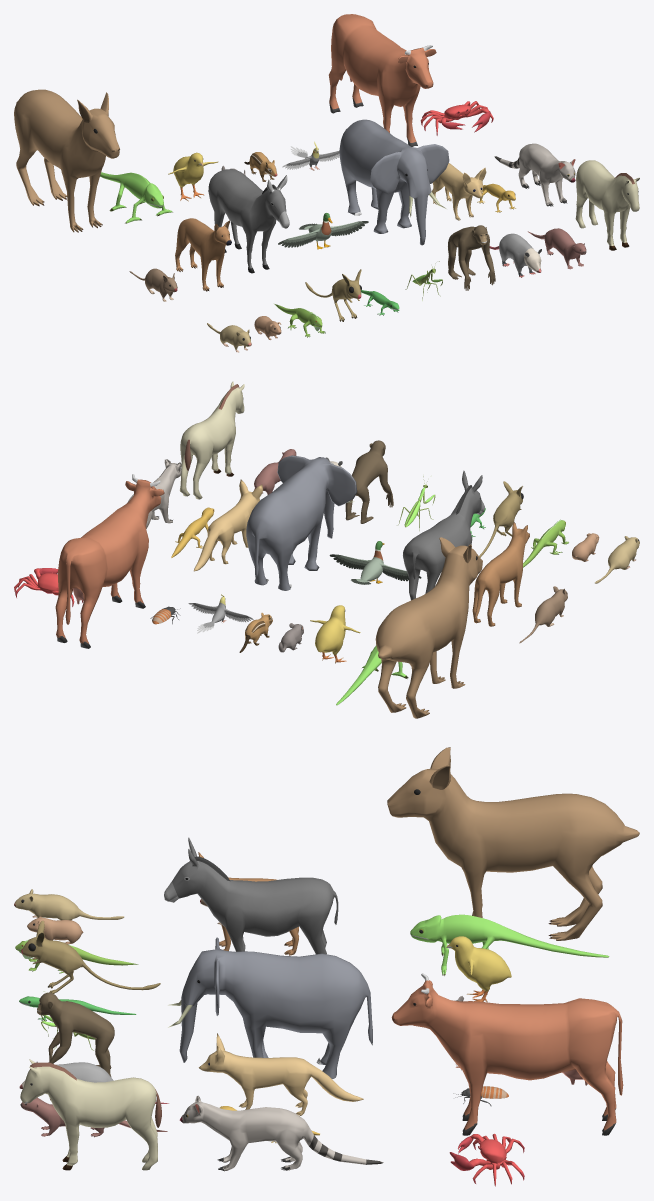
Rendered from animal1.fbx.
The picture shows the model from 3 angles, top to bottom: view 1: azimuth 30°, elevation 25°; view 2: azimuth 150°, elevation 25°; view 3: azimuth 270°, elevation 25°; orthographic projection. The views are drawn at different scales.
Visible parts, largest first — view 1: patagonian_cavy, elephant, cow, donkey, pony, dog, genet, monkey, fennec_fox, chameleon, opossum, duck (+10 smaller); view 2: patagonian_cavy, elephant, cow, donkey, pony, dog, fennec_fox, monkey, duck, chick, jerboa, genet (+10 smaller); view 3: patagonian_cavy, cow, elephant, donkey, pony, genet, fennec_fox, chameleon, monkey, chick, jerboa, crab (+4 smaller).
Part boxes in pixels (bbox=[...]): patagonian_cavy: bbox=[14, 89, 119, 232]; elephant: bbox=[339, 119, 449, 245]; cow: bbox=[328, 14, 436, 146]; donkey: bbox=[208, 169, 289, 273]; pony: bbox=[575, 160, 639, 250]; dog: bbox=[175, 218, 231, 291]; genet: bbox=[494, 143, 575, 206]; monkey: bbox=[448, 225, 495, 290]; fennec_fox: bbox=[432, 163, 486, 220]; chameleon: bbox=[100, 172, 172, 223]; opossum: bbox=[489, 233, 541, 277]; duck: bbox=[278, 213, 368, 249]; patagonian_cavy: bbox=[375, 537, 482, 718]; elephant: bbox=[246, 455, 357, 590]; cow: bbox=[55, 474, 164, 648]; donkey: bbox=[403, 470, 484, 600]; pony: bbox=[179, 381, 244, 499]; dog: bbox=[472, 522, 529, 626]; fennec_fox: bbox=[193, 479, 263, 571]; monkey: bbox=[345, 440, 393, 523]; duck: bbox=[329, 541, 421, 584]; chick: bbox=[310, 605, 360, 663]; jerboa: bbox=[479, 481, 523, 557]; genet: bbox=[127, 459, 181, 528]; patagonian_cavy: bbox=[387, 747, 639, 940]; cow: bbox=[391, 973, 623, 1135]; elephant: bbox=[168, 937, 372, 1078]; donkey: bbox=[164, 837, 338, 954]; pony: bbox=[20, 1059, 161, 1170]; genet: bbox=[179, 1095, 383, 1171]; fennec_fox: bbox=[198, 1033, 363, 1115]; chameleon: bbox=[410, 914, 609, 975]; monkey: bbox=[37, 992, 114, 1076]; chick: bbox=[446, 936, 511, 1001]; jerboa: bbox=[21, 921, 160, 993]; crab: bbox=[449, 1133, 524, 1186].
Bounding box in the file's own units: 25.68 × 7.64 × 24.78.
